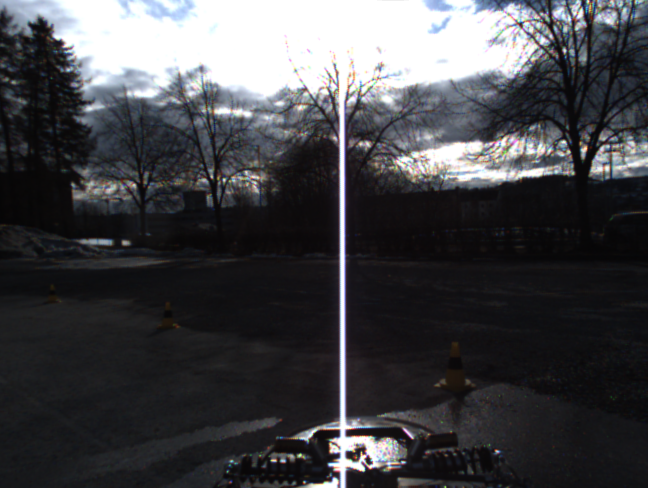cone-small-yellow: (433, 341, 475, 391), (158, 301, 178, 328), (45, 284, 61, 304)
